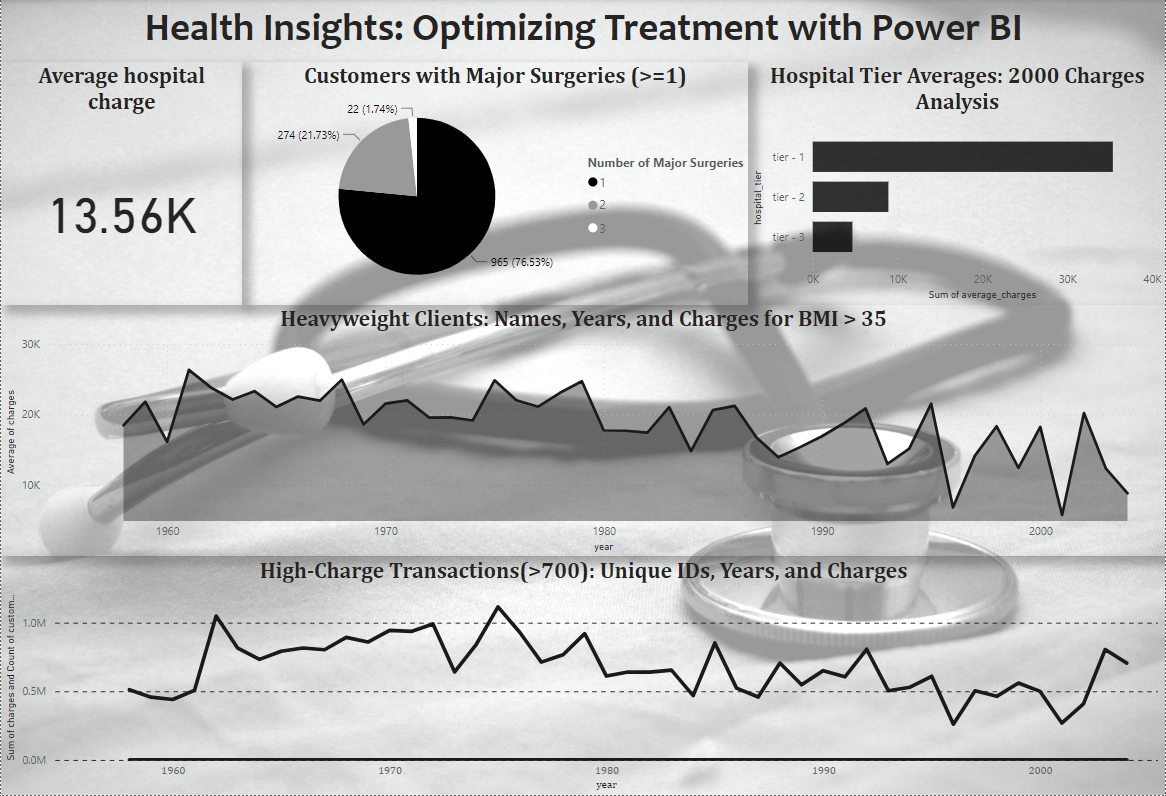

What the dashboard file says about the page in this screenshot:
{"tool":"powerbi","page":{"name":"Dashboard 1","canvas":[1280,875],"ordinal":0},"visuals":[{"type":"textbox","box":[0,0,1280.2,68.7],"z":0},{"type":"card","title":"Average hospital charge","fields":{"Values":["Sum(1.average_hospital_charge)"]},"box":[0,68.7,265.1,267.9],"z":1000},{"type":"lineChart","title":"High-Charge Transactions(>700): Unique IDs, Years, and Charges","fields":{"Category":["2.year"],"Y":["Sum(2.charges)","CountNonNull(2.customer_id)"]},"box":[0,612.6,1280.2,262.4],"z":2000},{"type":"stackedAreaChart","title":"Heavyweight Clients: Names, Years, and Charges for BMI > 35","fields":{"Category":["3.year"],"Y":["Avg(3.charges)"]},"box":[0,336.5,1280.2,276.1],"z":3000},{"type":"pieChart","title":" Customers with Major Surgeries (>=1)","fields":{"Y":["CountNonNull(4.customer_id)"],"Category":["4.number of major surgeries"]},"box":[265.1,68.7,556.3,267.9],"z":4000},{"type":"barChart","title":"Hospital Tier Averages: 2000 Charges Analysis","fields":{"Y":["Sum(7.average_charges)"],"Category":["7.hospital_tier"]},"box":[821.4,68.7,458.8,267.9],"z":5000}]}

Visuals, with their boxes in screenshot pixels (x1, y1, x2, y2), scaled from the page's 1280x875 canvas onto the 1166x796 screenshot:
textbox: left=0, top=0, right=1165, bottom=62
"Average hospital charge" card: left=0, top=62, right=241, bottom=306
"High-Charge Transactions(>700): Unique IDs, Years, and Charges" lineChart: left=0, top=557, right=1165, bottom=795
"Heavyweight Clients: Names, Years, and Charges for BMI > 35" stackedAreaChart: left=0, top=306, right=1165, bottom=557
" Customers with Major Surgeries (>=1)" pieChart: left=241, top=62, right=748, bottom=306
"Hospital Tier Averages: 2000 Charges Analysis" barChart: left=748, top=62, right=1165, bottom=306
